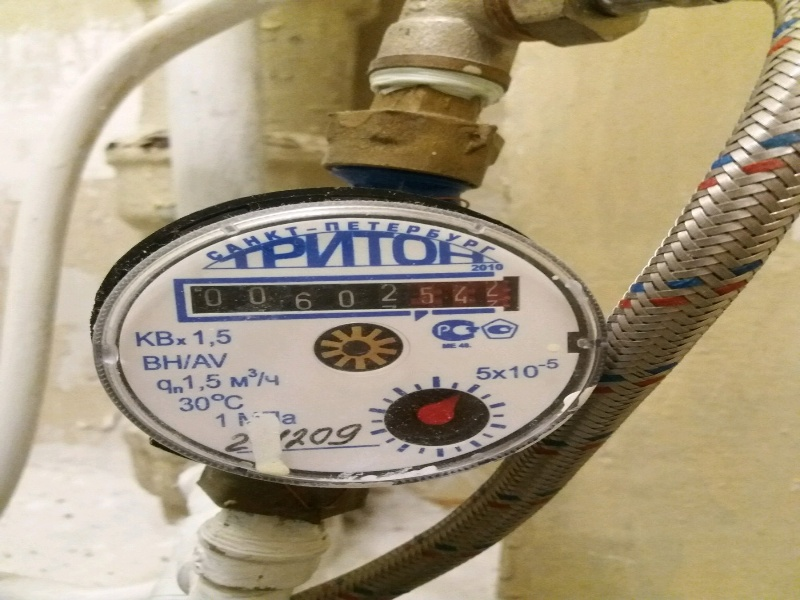meter: (186, 284, 516, 317)
